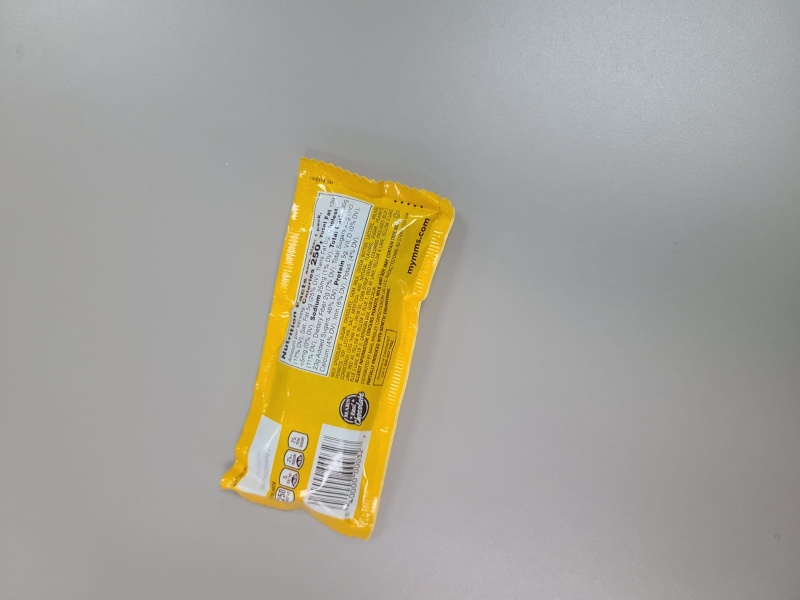m&m: (217, 153, 457, 540)
